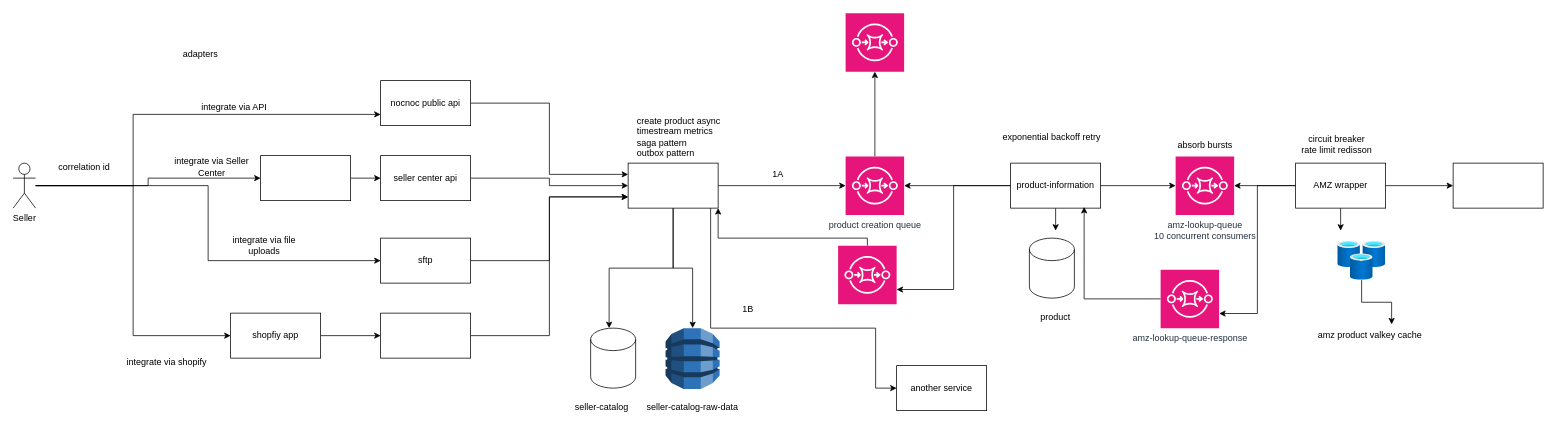
The diagram is 1556 pixels wide and 431 high, and some of its shapes have lost their labels. The centre of each missing label's shape, as x and y in pixels:
AMZ: point (1497, 185)
product creation queue dlq: point (874, 42)
product creation queue response: point (867, 274)
seller center web app: point (305, 178)
sellers-core: point (672, 185)
shopfiy api: point (425, 335)
